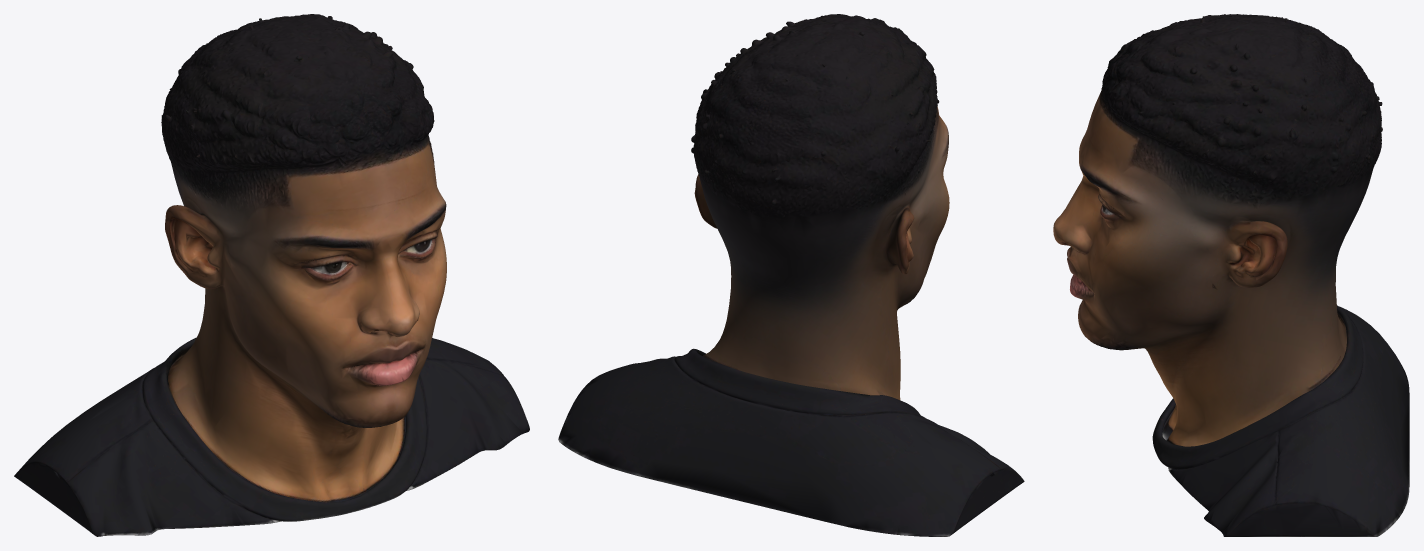
File: black-male.glb
3 renders of one model, left to right at view 1: azimuth 30°, elevation 25°; view 2: azimuth 150°, elevation 25°; view 3: azimuth 270°, elevation 25°, orthographic. The views are drawn at different scales.
Parts seen in each view (by area): view 1: node_0; view 2: node_0; view 3: node_0.
Boxes of the visible parts, left/top/right/bottom form: node_0: left=14, top=14, right=529, bottom=536; node_0: left=558, top=14, right=1024, bottom=536; node_0: left=1053, top=14, right=1409, bottom=536.
Bounding box in the file's own units: 0.7903 × 0.7684 × 0.6026.
Materials: 1 (1 with a texture image).
